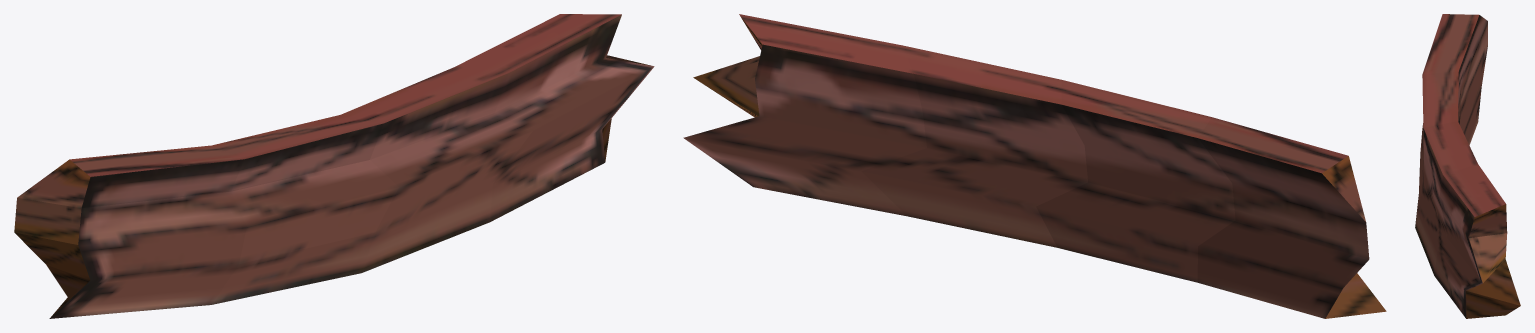
The model's file is Plank3.fbx.
3 views of the same model, side by side, from view 1: azimuth 30°, elevation 25°; view 2: azimuth 150°, elevation 25°; view 3: azimuth 270°, elevation 25° (orthographic). The views are drawn at different scales.
Parts seen in each view (by area): view 1: Plank3; view 2: Plank3; view 3: Plank3.
Part boxes in pixels (bbox=[...]): Plank3: bbox=[14, 14, 654, 318]; Plank3: bbox=[683, 14, 1386, 318]; Plank3: bbox=[1415, 14, 1520, 318].
Size of the model in its own units: 49.54 by 11.79 by 8.97.
